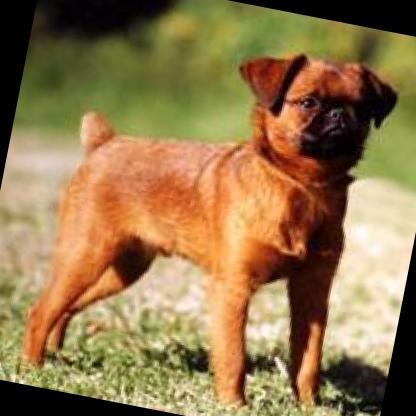Brabancon_griffon: (14, 8, 401, 416)
